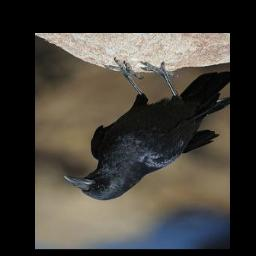Crow: (60, 57, 229, 202)
